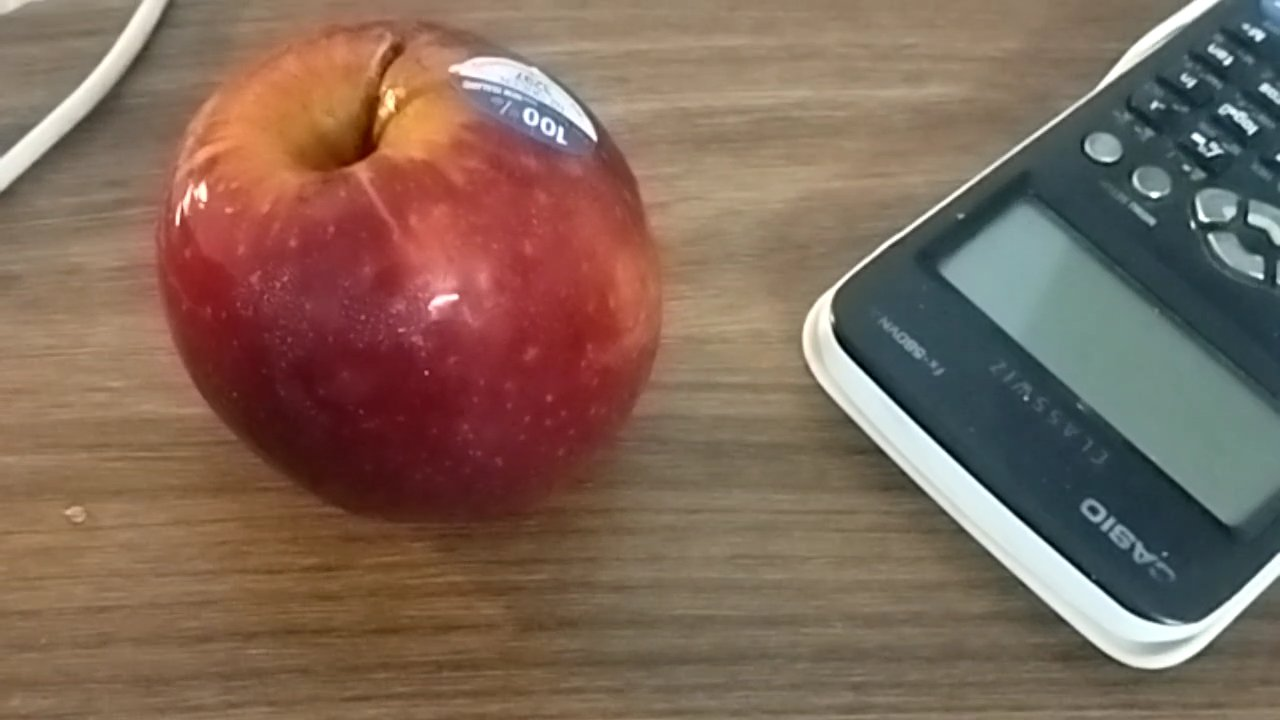apple_rotten: (130, 10, 669, 541)
